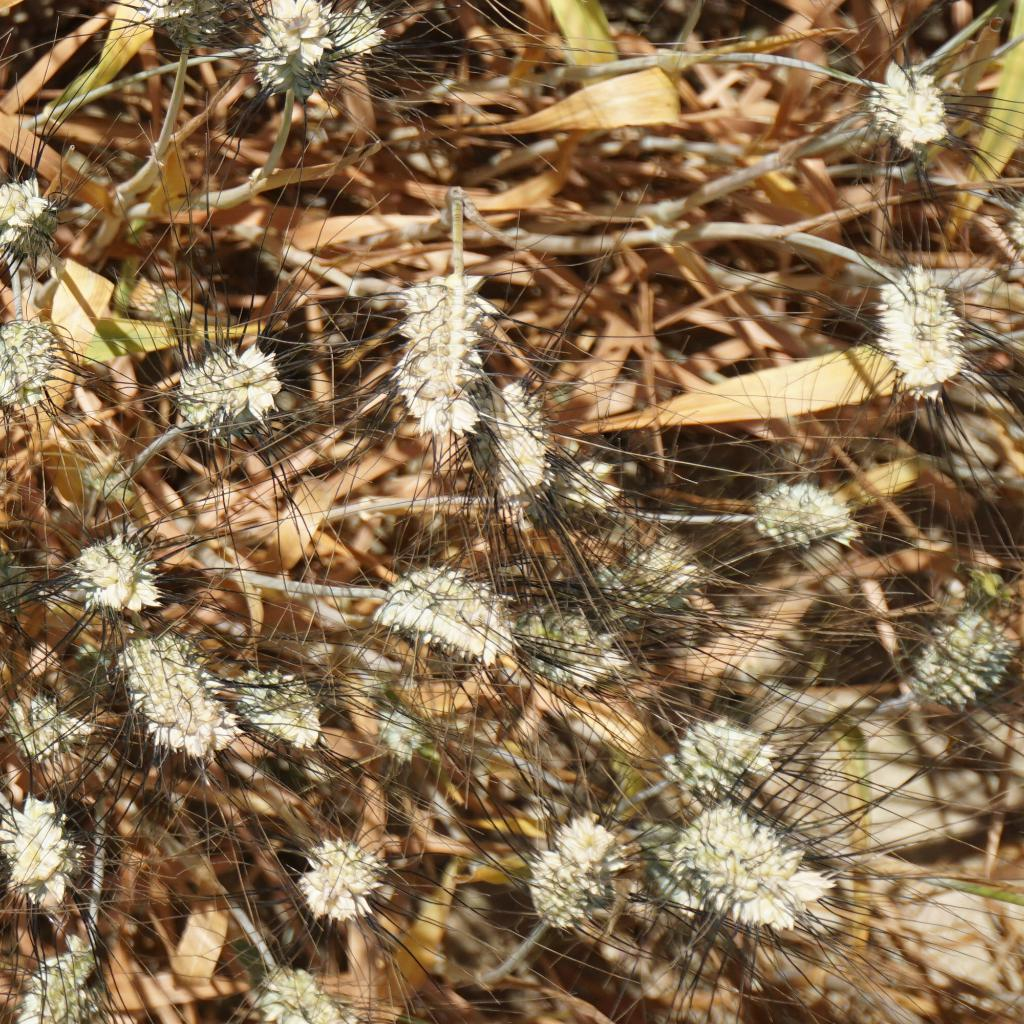0-0: (661, 805, 828, 929), (395, 269, 492, 444), (907, 596, 1024, 720), (649, 712, 781, 817), (120, 626, 222, 748), (518, 809, 630, 919), (165, 330, 279, 435), (374, 557, 500, 651), (470, 362, 551, 504), (62, 523, 179, 618), (0, 781, 86, 909), (512, 590, 614, 691), (874, 271, 961, 388), (750, 454, 848, 557), (0, 677, 104, 772), (222, 653, 326, 744), (596, 516, 691, 614), (301, 825, 399, 919), (858, 65, 954, 155), (15, 945, 119, 1024), (240, 0, 334, 84), (0, 153, 62, 251), (0, 311, 65, 401), (362, 685, 431, 765), (240, 968, 325, 1024), (135, 0, 244, 41)
